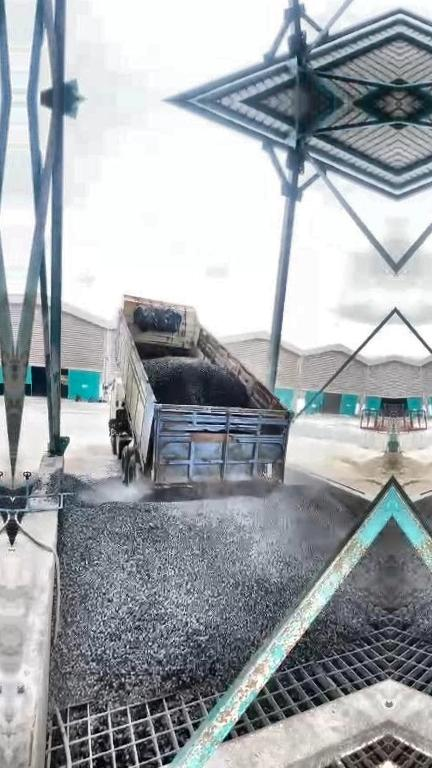gravel: (45, 459, 363, 710), (295, 525, 392, 658), (146, 359, 245, 406), (11, 487, 26, 545)
sand: (334, 452, 393, 492)
